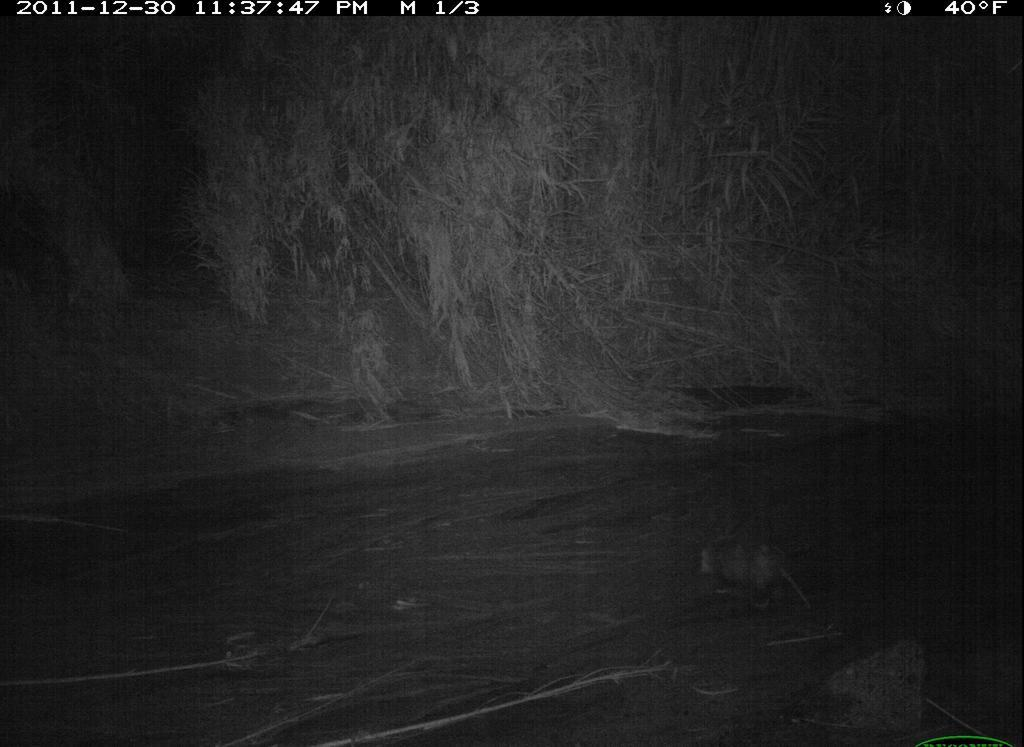opossum: (683, 514, 841, 652)
